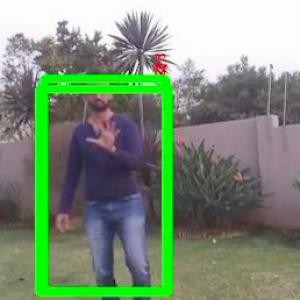follow_hand: (86, 112, 124, 156)
